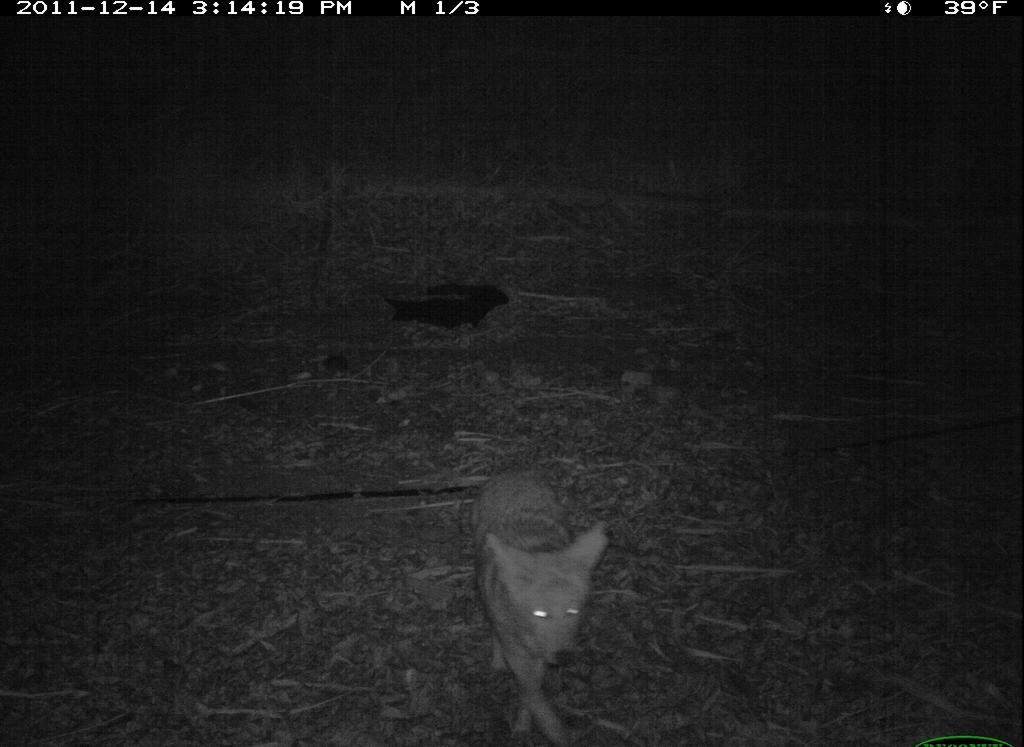coyote: (454, 441, 641, 745)
